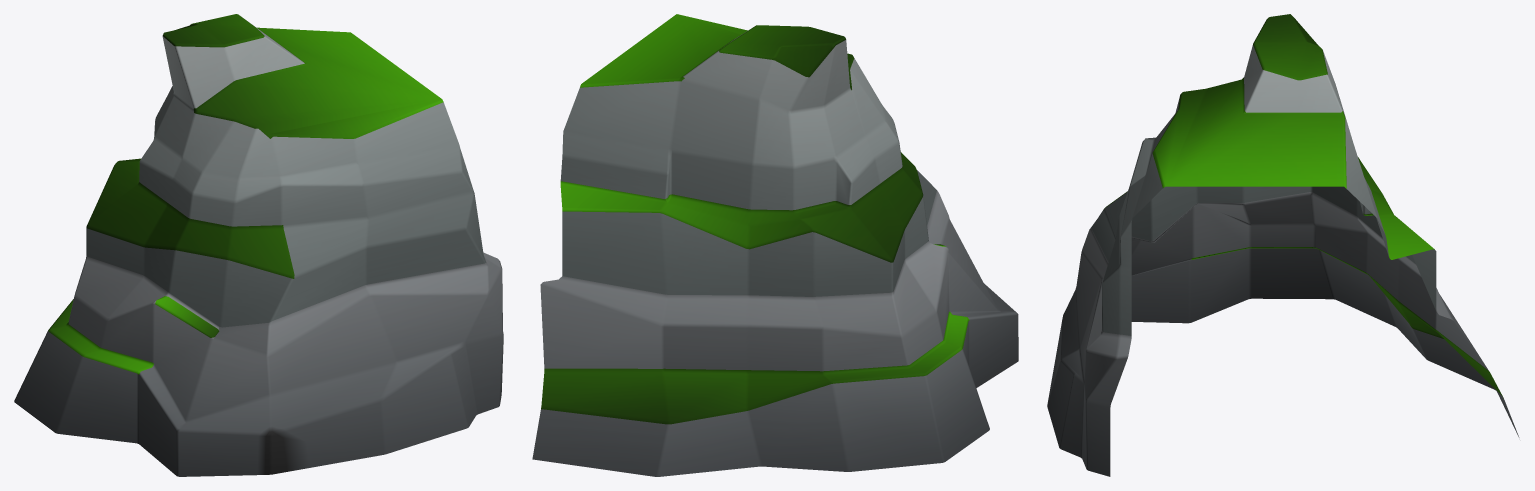
The model's file is Scogliera_02_lp.fbx.
3 renders of one model, left to right at view 1: azimuth 30°, elevation 25°; view 2: azimuth 150°, elevation 25°; view 3: azimuth 270°, elevation 25°, orthographic. The views are drawn at different scales.
Parts seen in each view (by area): view 1: pCube2; view 2: pCube2; view 3: pCube2.
Part boxes in pixels (bbox=[...]): pCube2: bbox=[14, 14, 503, 476]; pCube2: bbox=[532, 14, 1018, 476]; pCube2: bbox=[1047, 14, 1519, 476].
Bounding box in the file's own units: 2697 × 2395 × 2969.
